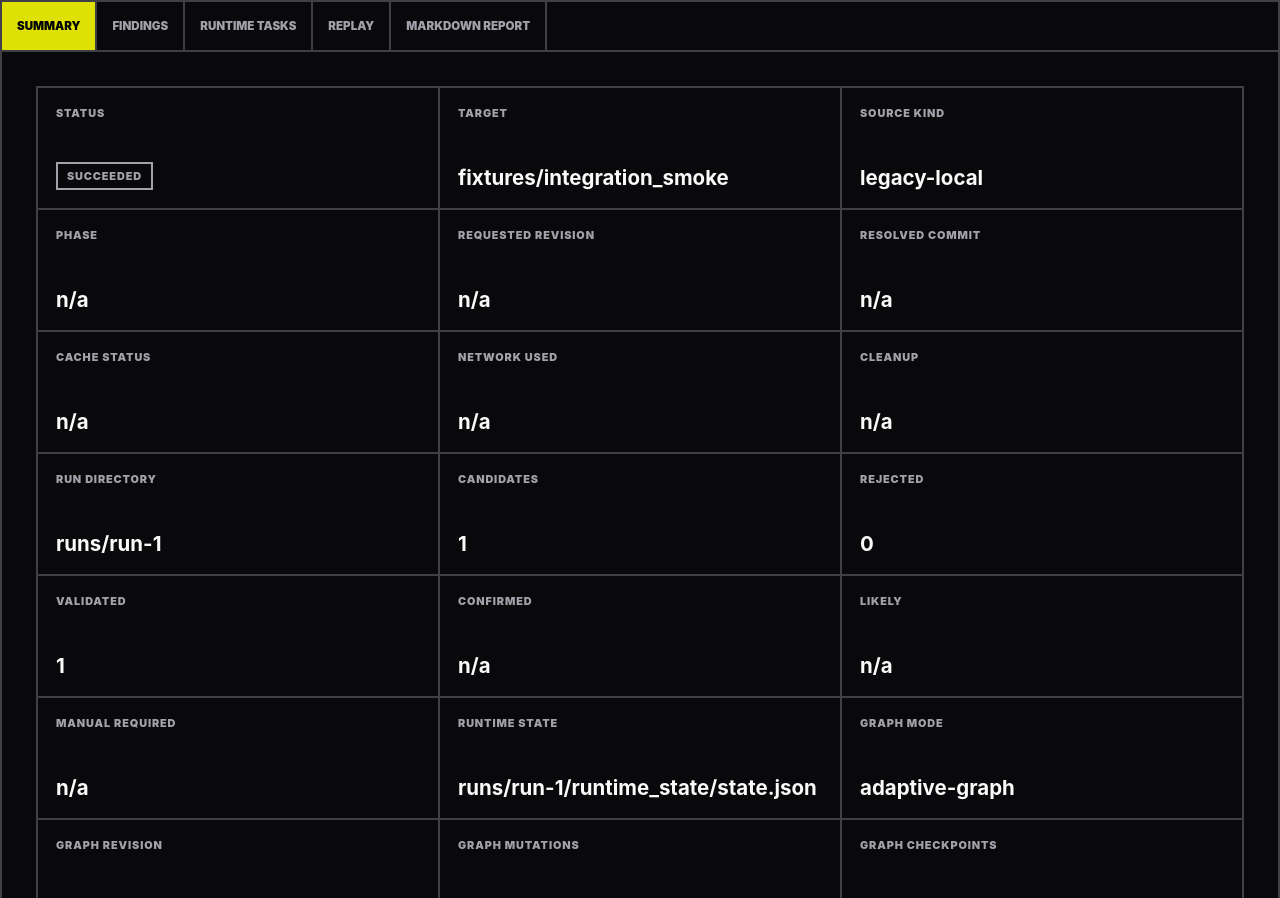
Scenario: RunDetailTabs › shows summary, findings, runtime tasks, replay, and markdown report tabs
Expected: the text "Validated" is shown, [56,594,126,608]
Expected: the text "adaptive-graph" is shown, [860,775,1015,800]
Click the tab "Findings".
click(141, 26)  # box [97,2,185,50]
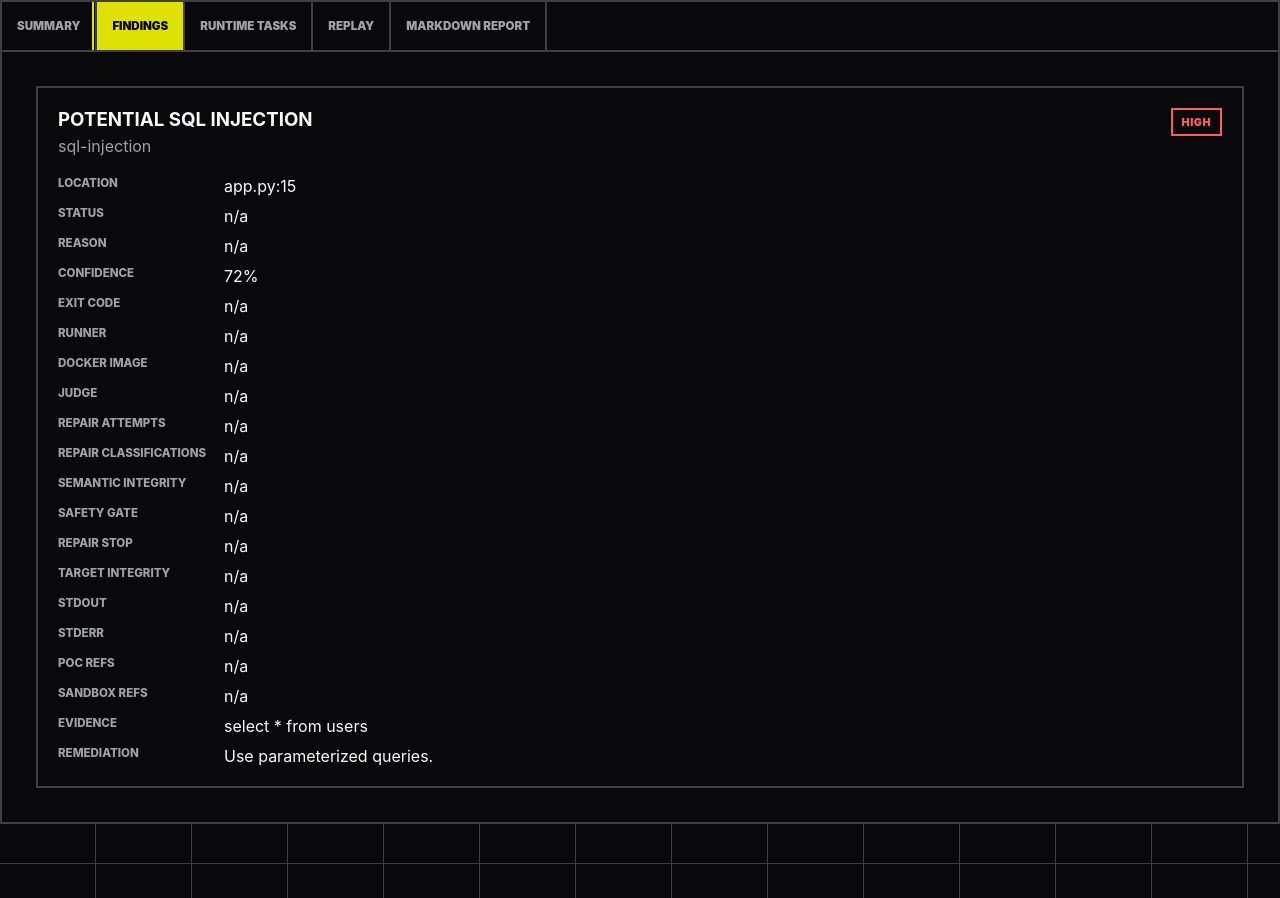
Expected: the heading "Potential SQL injection" is shown, [58,108,313,131]
Click the tab "Runtime Tasks".
click(249, 26)  # box [185,2,313,50]
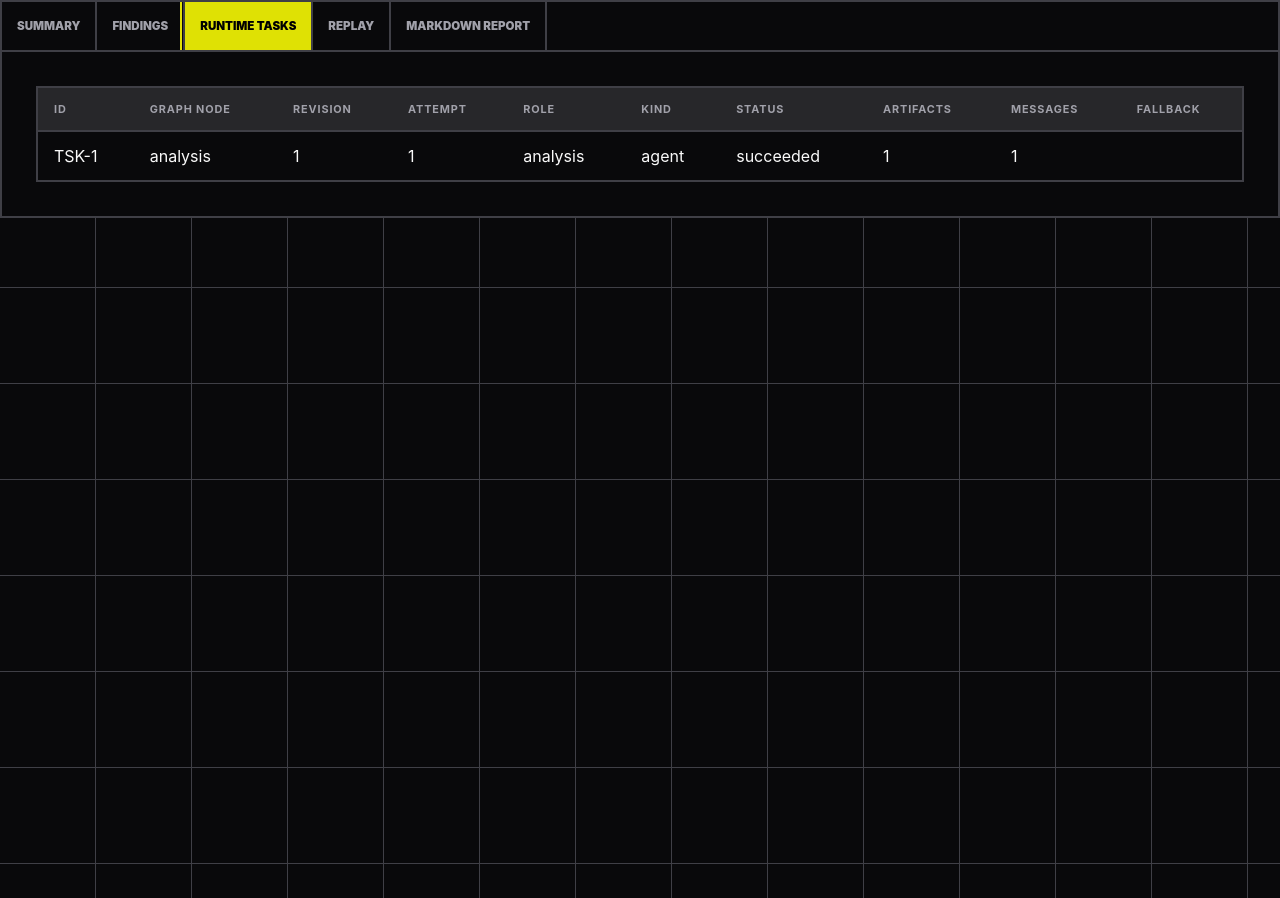
Expected: the 1st text "analysis" is shown, [134,131,277,180]
Click the tab "Replay".
click(352, 26)  # box [313,2,391,50]
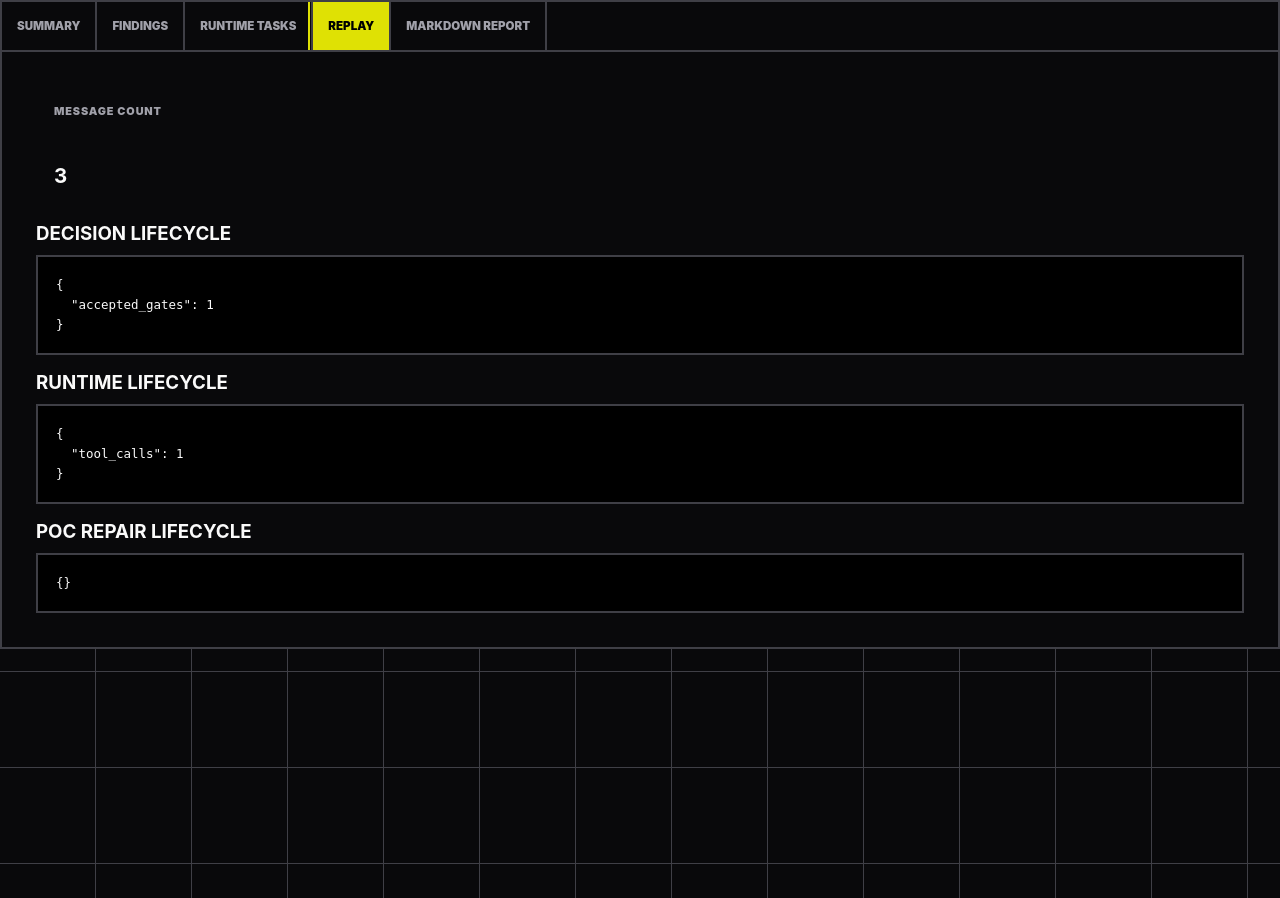
Expected: the text "Message count" is shown, [54,104,162,118]
Click the tab "Markdown Report".
click(469, 26)  # box [391,2,547,50]
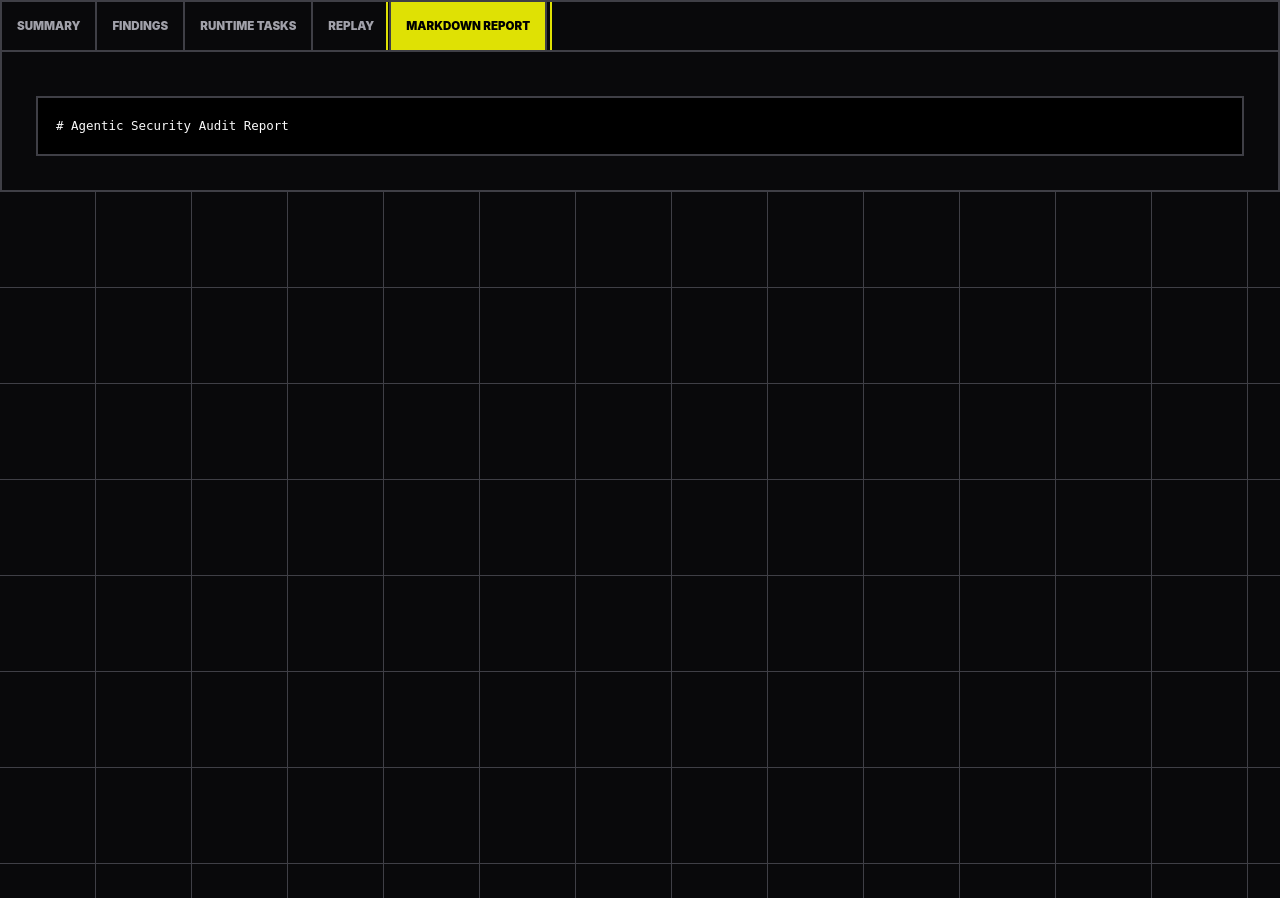
Expected: the text "# Agentic Security Audit Report" is shown, [36,96,1244,156]
